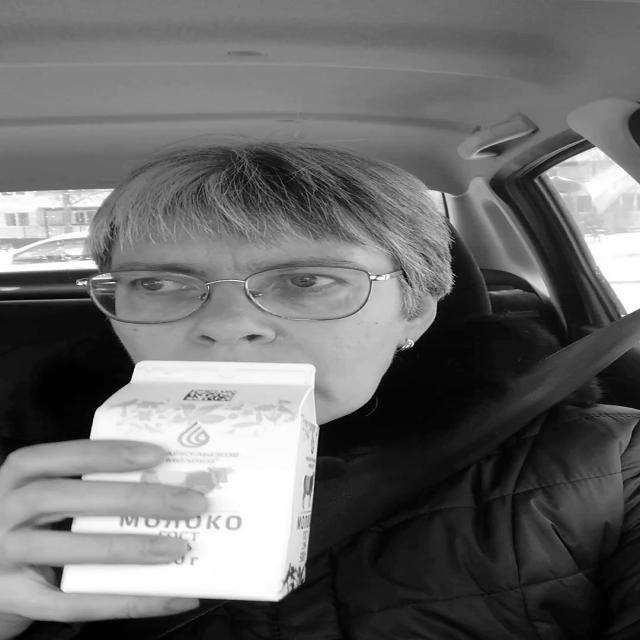Drinking: (62, 348, 321, 606)
Seatbelt: (303, 312, 640, 565)
